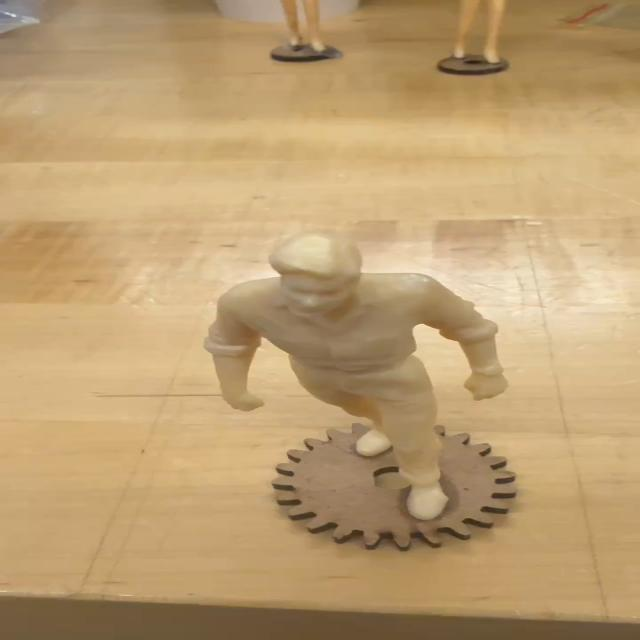Unauthorized: (185, 234, 524, 539)
